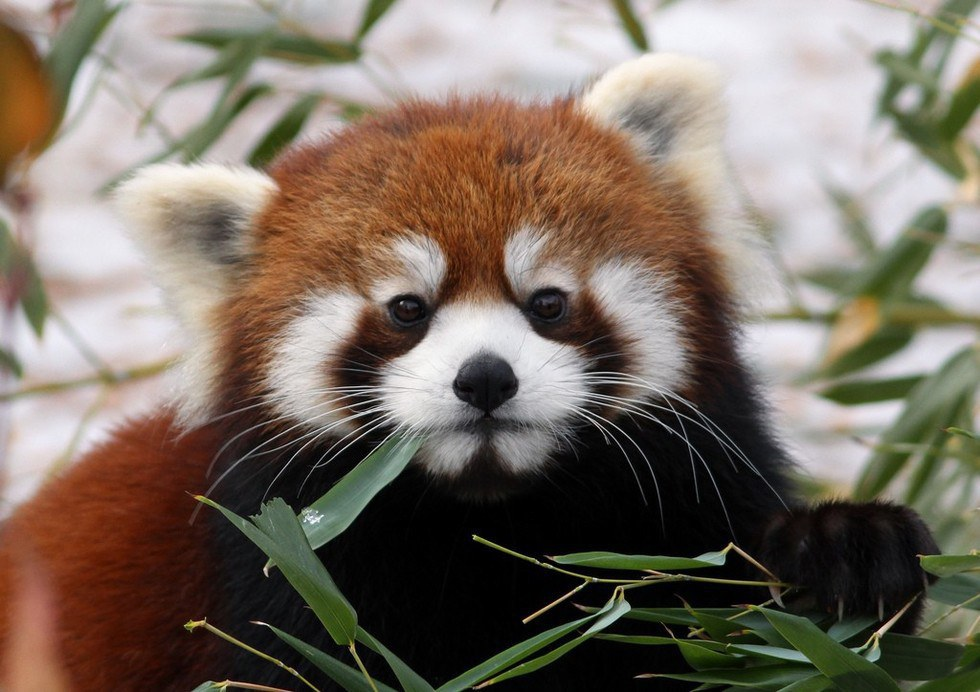red_panda: (9, 82, 934, 648)
